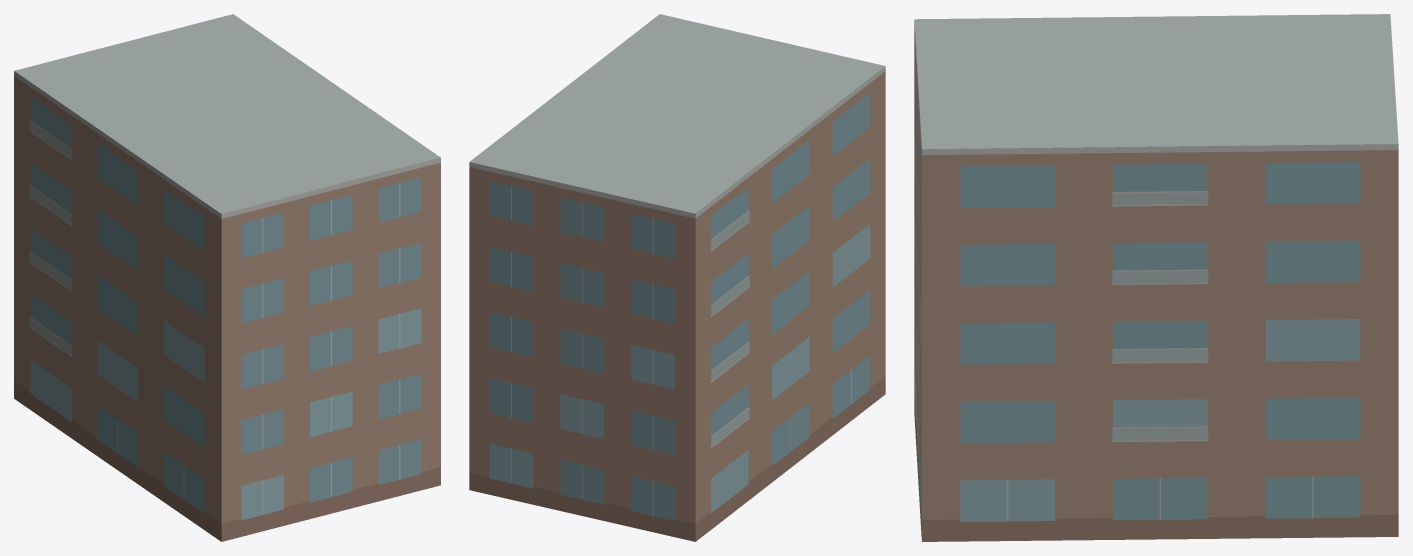
File: survey-upis-32995788.glb
The picture shows the model from 3 angles, left to right: view 1: azimuth 30°, elevation 25°; view 2: azimuth 150°, elevation 25°; view 3: azimuth 270°, elevation 25°; orthographic projection. The views are drawn at different scales.
Visible parts, largest first — view 1: survey-upis-32995788.tmp; view 2: survey-upis-32995788.tmp; view 3: survey-upis-32995788.tmp.
Boxes of the visible parts, x1=… form: survey-upis-32995788.tmp: x1=14, y1=14, x2=440, y2=541; survey-upis-32995788.tmp: x1=469, y1=14, x2=885, y2=541; survey-upis-32995788.tmp: x1=914, y1=14, x2=1398, y2=541.
Size of the model in its own units: 11.89 by 16.09 by 17.99.
